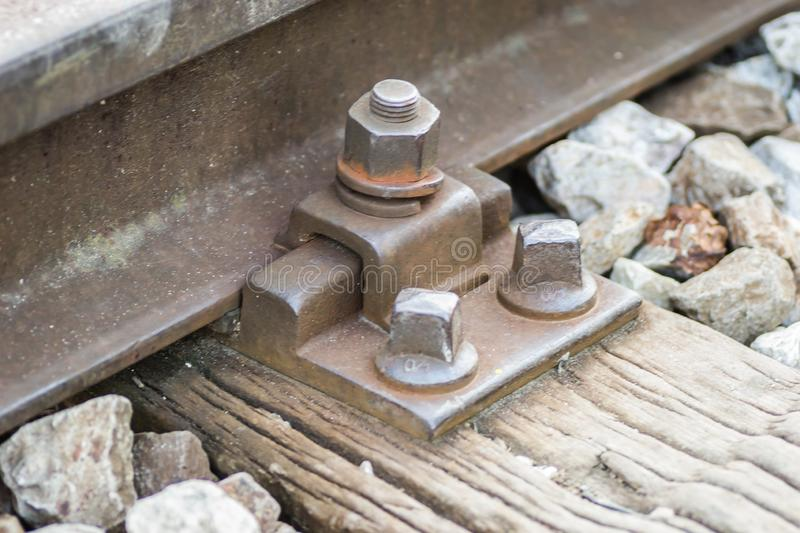bolt_b: (342, 79, 444, 182)
